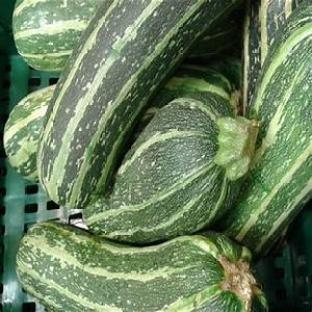Zucchini: (84, 92, 256, 244), (221, 2, 311, 253), (17, 223, 267, 311), (3, 85, 55, 181)
